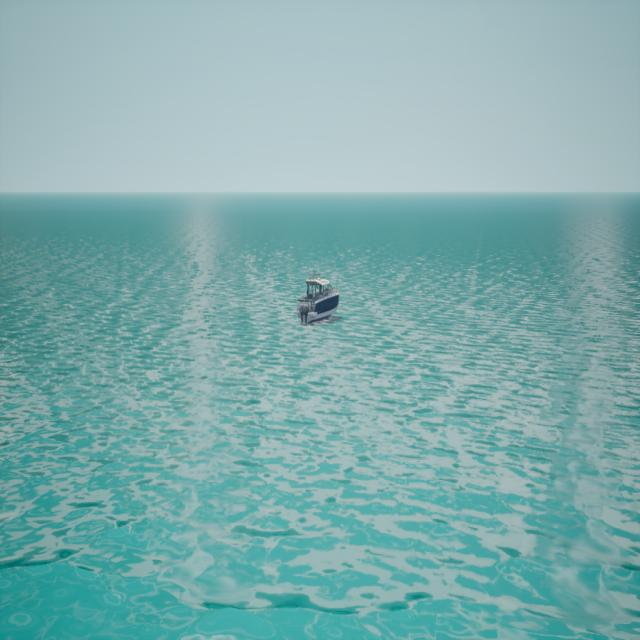ship: (296, 278, 338, 326)
